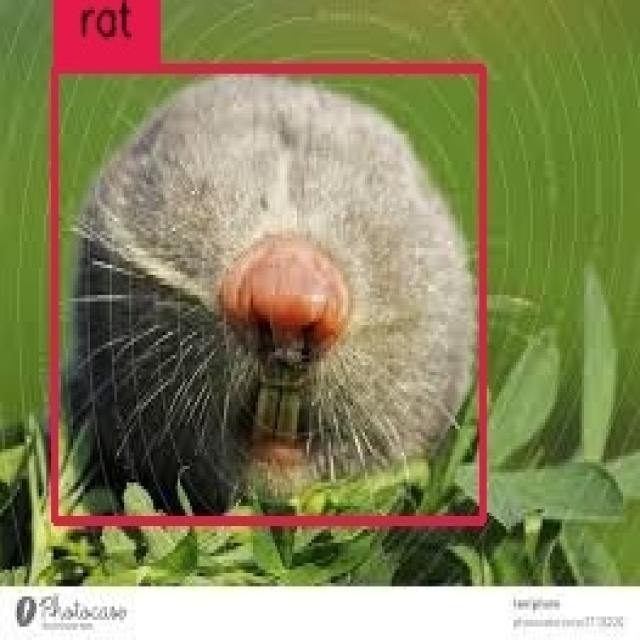rat: (56, 67, 482, 523)
